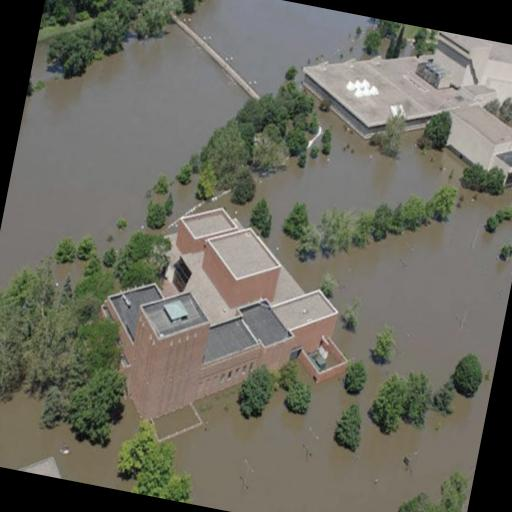flood: (173, 113, 512, 512), (0, 26, 246, 284), (0, 26, 247, 281), (186, 0, 369, 93), (186, 0, 368, 93), (0, 393, 138, 492), (201, 195, 251, 225), (171, 184, 196, 221)
house: (76, 186, 374, 478), (284, 38, 451, 154), (435, 99, 512, 192), (430, 31, 512, 103), (0, 442, 83, 482)
